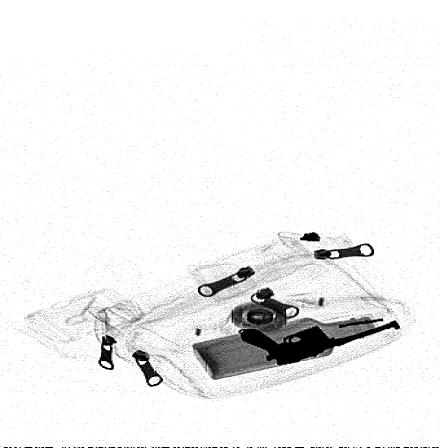Gun: (238, 319, 403, 367)
